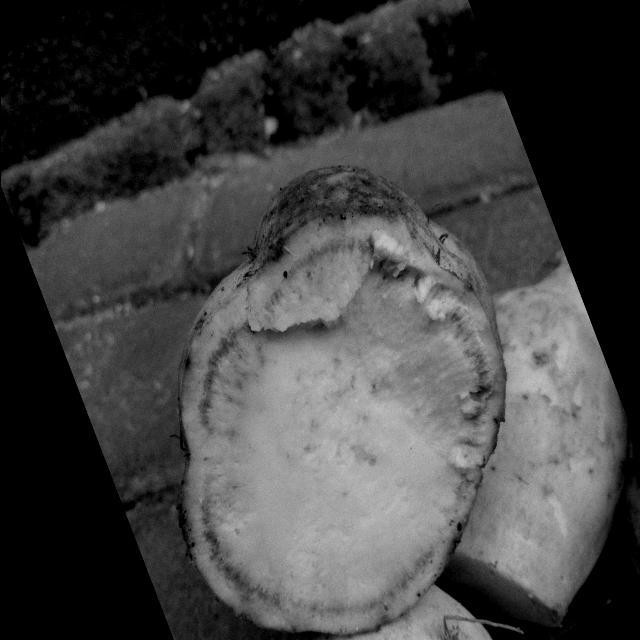Healthy Sweet Potato: (179, 210, 504, 632)
